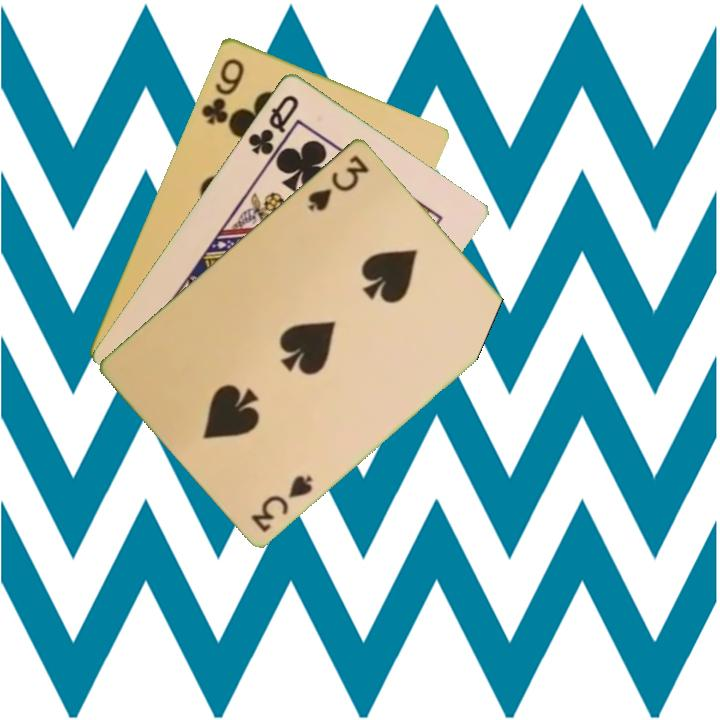3s: (247, 471, 316, 535), (304, 151, 372, 214)
9c: (197, 54, 247, 127)
Qc: (244, 90, 302, 158)
